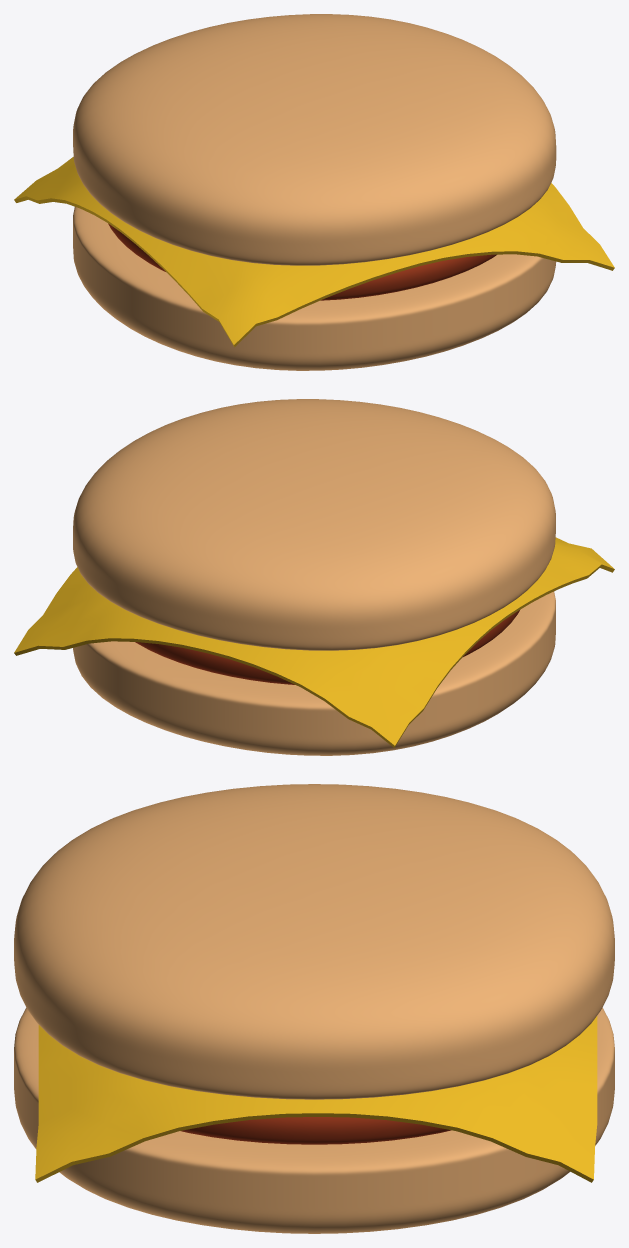
Rendered from hamburger.glb.
3 views of the same model, one above another, from view 1: azimuth 30°, elevation 25°; view 2: azimuth 150°, elevation 25°; view 3: azimuth 270°, elevation 25° (orthographic). The views are drawn at different scales.
Parts seen in each view (by area): view 1: Cube.002, Cube, Plane, Cube.001; view 2: Cube.002, Cube, Plane, Cube.001; view 3: Cube.002, Cube, Plane, Cube.001.
Part boxes in pixels (x1,y1,x2,y2): Cube.002: (73,14,556,265); Cube: (73,207,556,370); Plane: (14,157,614,347); Cube.001: (108,223,496,300); Cube.002: (73,399,555,650); Cube: (73,591,555,755); Plane: (14,537,614,747); Cube.001: (135,610,519,684); Cube.002: (14,784,614,1099); Cube: (14,1007,614,1233); Plane: (35,1016,597,1182); Cube.001: (181,1117,450,1144).
Bounding box in the file's own units: 9.17 × 4.59 × 9.17.
